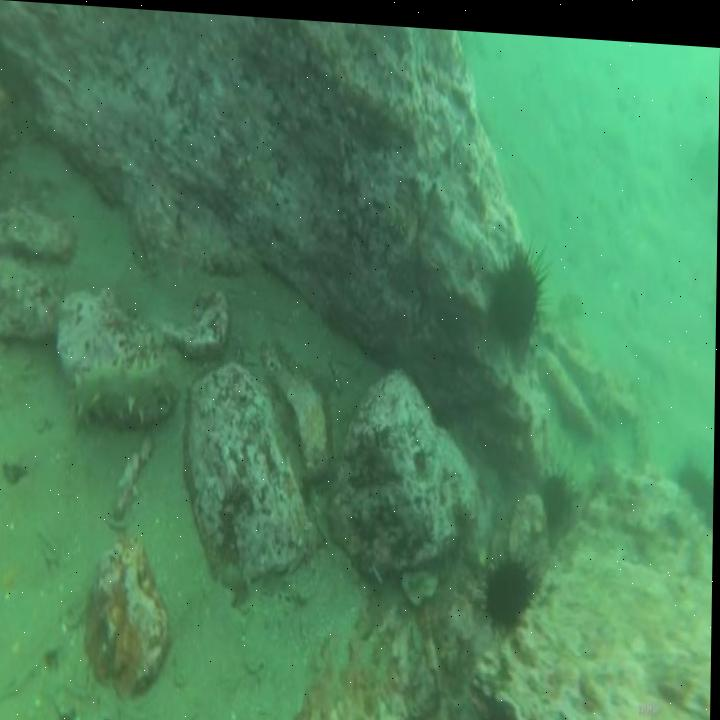echinus: (483, 227, 554, 356), (479, 532, 543, 628), (540, 453, 575, 523), (467, 683, 520, 720)
holothurian: (70, 343, 183, 436)
